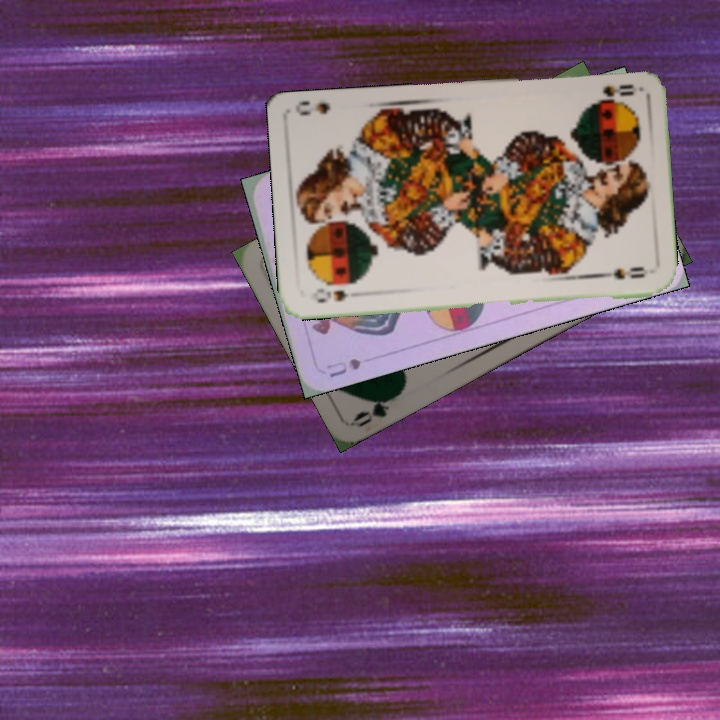GO: (350, 389, 404, 430)
SO: (587, 80, 637, 107), (308, 285, 351, 305)
SU: (322, 354, 363, 380)
